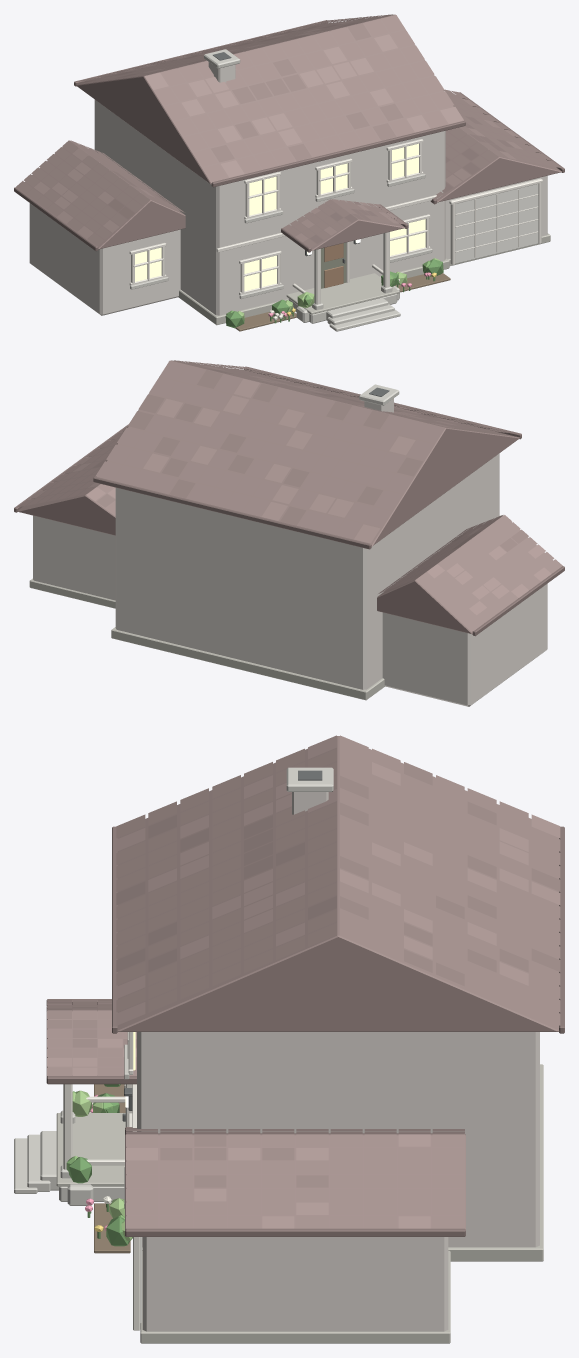
File: house_02.fbx
3 views of the same model, one above another, from view 1: azimuth 30°, elevation 25°; view 2: azimuth 150°, elevation 25°; view 3: azimuth 270°, elevation 25° (orthographic). The views are drawn at different scales.
Visible parts, largest first — view 1: MainRoof_RoofTiles, MainHouseBody, MainRoof, SecondaryHouseBody, SecondaryRoof_RoofTiles, GarageDoor, GarageRoof_RoofTiles, SecondaryRoof, GarageRoof, PorchGableRoof_RoofTiles, PorchDeckTop, PorchGableRoof (+19 smaller); view 2: MainHouseBody, MainRoof_RoofTiles, MainRoof, SecondaryHouseBody, SecondaryRoof_RoofTiles, GarageBody, SecondaryRoof, GarageRoof, Foundation, GarageRoof_RoofTiles, MainRoof_Fascia_Back, GarageFoundation (+3 smaller); view 3: MainRoof_RoofTiles, MainHouseBody, MainRoof, GarageRoof_RoofTiles, GarageBody, GarageRoof, PorchGableRoof_RoofTiles, GarageFoundation, PorchDeckTop, GarageRoof_Fascia_Front, Foundation, PorchGableRoof (+10 smaller).
Part boxes in pixels (x1,y1,x2,y2): MainRoof_RoofTiles: [77, 14, 463, 181]; MainHouseBody: [94, 99, 445, 315]; MainRoof: [76, 14, 462, 184]; SecondaryHouseBody: [29, 203, 180, 315]; SecondaryRoof_RoofTiles: [16, 140, 184, 246]; GarageDoor: [455, 184, 538, 263]; GarageRoof_RoofTiles: [434, 89, 562, 199]; SecondaryRoof: [25, 141, 185, 249]; GarageRoof: [436, 93, 561, 202]; PorchGableRoof_RoofTiles: [283, 199, 405, 247]; PorchDeckTop: [286, 273, 399, 314]; PorchGableRoof: [288, 200, 405, 250]; MainHouseBody: [115, 453, 499, 689]; MainRoof_RoofTiles: [95, 360, 518, 543]; MainRoof: [97, 360, 519, 546]; SecondaryHouseBody: [382, 583, 547, 706]; SecondaryRoof_RoofTiles: [378, 515, 562, 630]; GarageBody: [33, 515, 115, 600]; SecondaryRoof: [377, 515, 552, 634]; GarageRoof: [17, 436, 120, 535]; Foundation: [111, 627, 385, 700]; GarageRoof_RoofTiles: [17, 426, 127, 514]; MainRoof_Fascia_Back: [93, 476, 371, 549]; GarageFoundation: [29, 578, 115, 608]; MainRoof_RoofTiles: [116, 735, 560, 1025]; MainHouseBody: [137, 1032, 539, 1247]; MainRoof: [117, 736, 559, 1031]; GarageRoof_RoofTiles: [126, 1128, 464, 1228]; GarageBody: [142, 1237, 448, 1331]; GarageRoof: [125, 1133, 465, 1229]; PorchGableRoof_RoofTiles: [47, 999, 136, 1075]; GarageFoundation: [140, 1250, 450, 1343]; PorchDeckTop: [56, 1113, 125, 1186]; GarageRoof_Fascia_Front: [125, 1228, 465, 1236]; Foundation: [142, 1064, 543, 1261]; PorchGableRoof: [46, 1005, 136, 1076].
Bounding box in the file's own units: 1665 × 791 × 1125.
